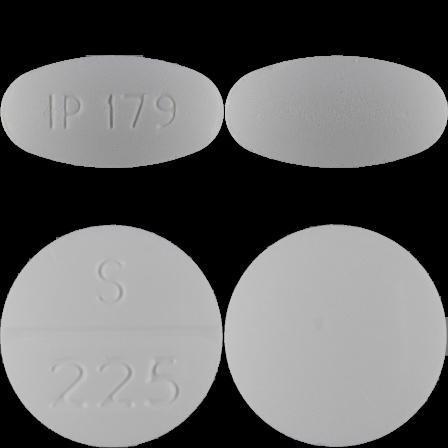50268-532: (0, 0, 224, 224)
